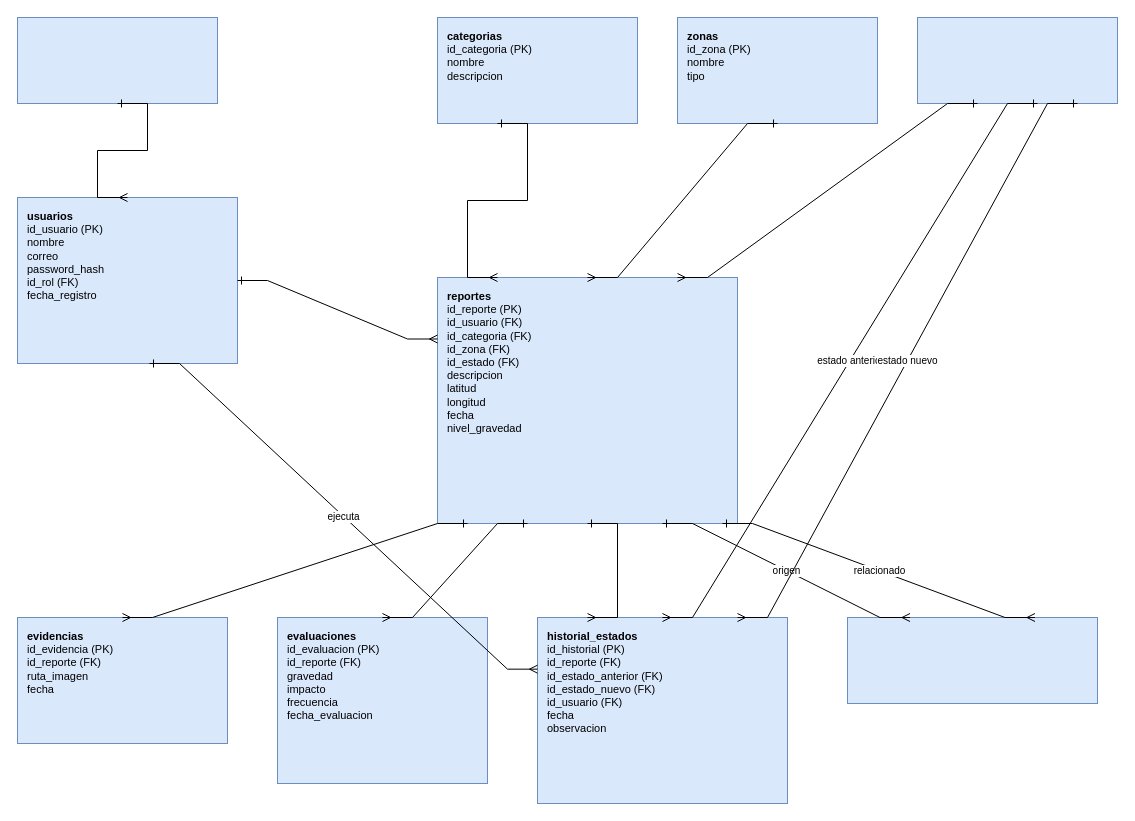
Image size: 1135x821. Some labels were removed from this diagram. Each missing label, with the centre of its shape:
"estados id_estado (PK) nombre" belongs at (1017,60).
"reportes_relacionados id_reporte (PK, FK) id_reporte_relacionado (PK, FK)" belongs at (972,660).
"roles id_rol (PK) nombre" belongs at (117,60).
